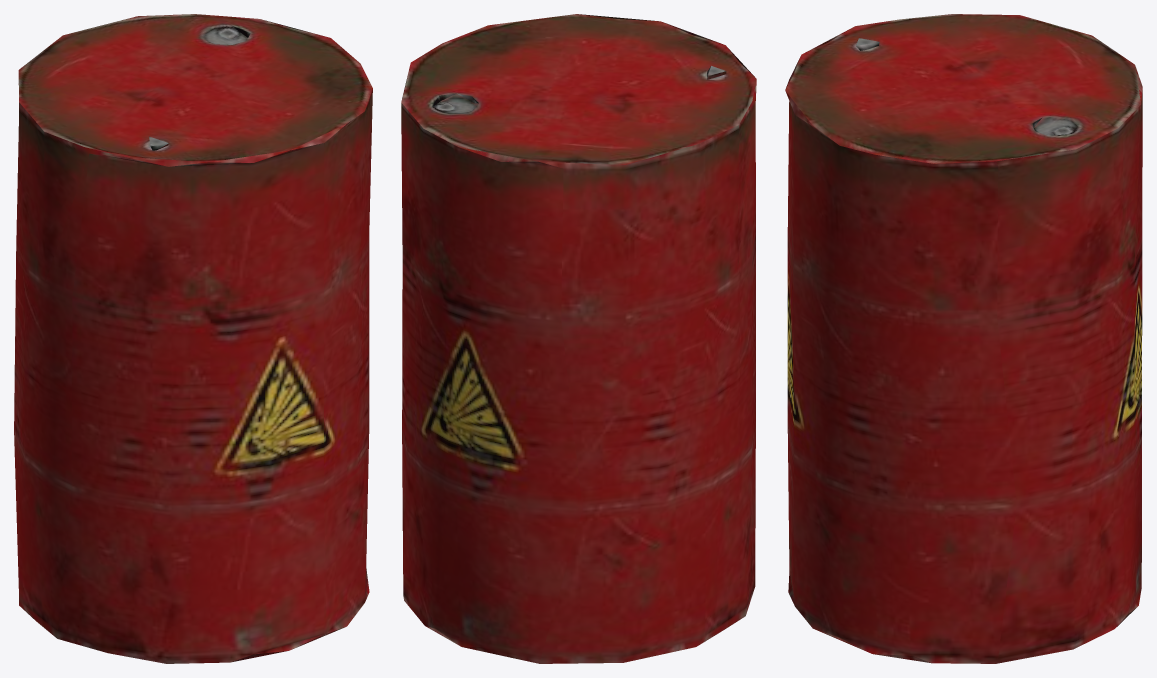
Rendered from barrel_red.glb.
3 views of the same model, side by side, from view 1: azimuth 30°, elevation 25°; view 2: azimuth 150°, elevation 25°; view 3: azimuth 270°, elevation 25° (orthographic).
Visible parts, largest first — view 1: barrel_red; view 2: barrel_red; view 3: barrel_red.
Boxes of the visible parts, bbox=[...] form: barrel_red: bbox=[14, 14, 372, 663]; barrel_red: bbox=[401, 14, 756, 663]; barrel_red: bbox=[785, 14, 1142, 663].
Size of the model in its own units: 0.5605 by 0.8804 by 0.5631.
Materials: 1 (1 with a texture image).
